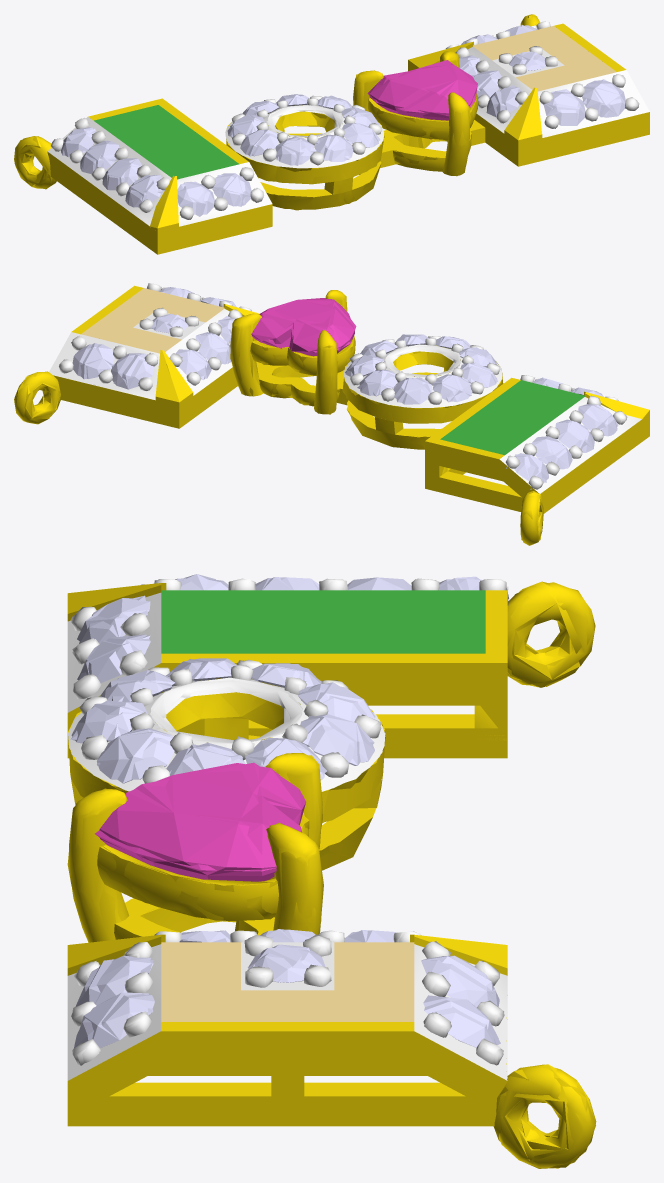
File: DCP-D000733359.glb
3 renders of one model, top to bottom at view 1: azimuth 30°, elevation 25°; view 2: azimuth 150°, elevation 25°; view 3: azimuth 270°, elevation 25°, orthographic. The views are drawn at different scales.
Visible parts, largest first — view 1: highPolyMesh, lowPolyMesh; view 2: highPolyMesh, lowPolyMesh; view 3: highPolyMesh, lowPolyMesh.
Part boxes in pixels (x1=…): highPolyMesh: x1=14, y1=14, x2=649, y2=254; lowPolyMesh: x1=14, y1=14, x2=649, y2=254; highPolyMesh: x1=14, y1=283, x2=649, y2=545; lowPolyMesh: x1=14, y1=283, x2=649, y2=542; highPolyMesh: x1=67, y1=577, x2=596, y2=1168; lowPolyMesh: x1=67, y1=574, x2=595, y2=1168.
Bounding box in the file's own units: 0.0219 × 0.00395 × 0.00961.
